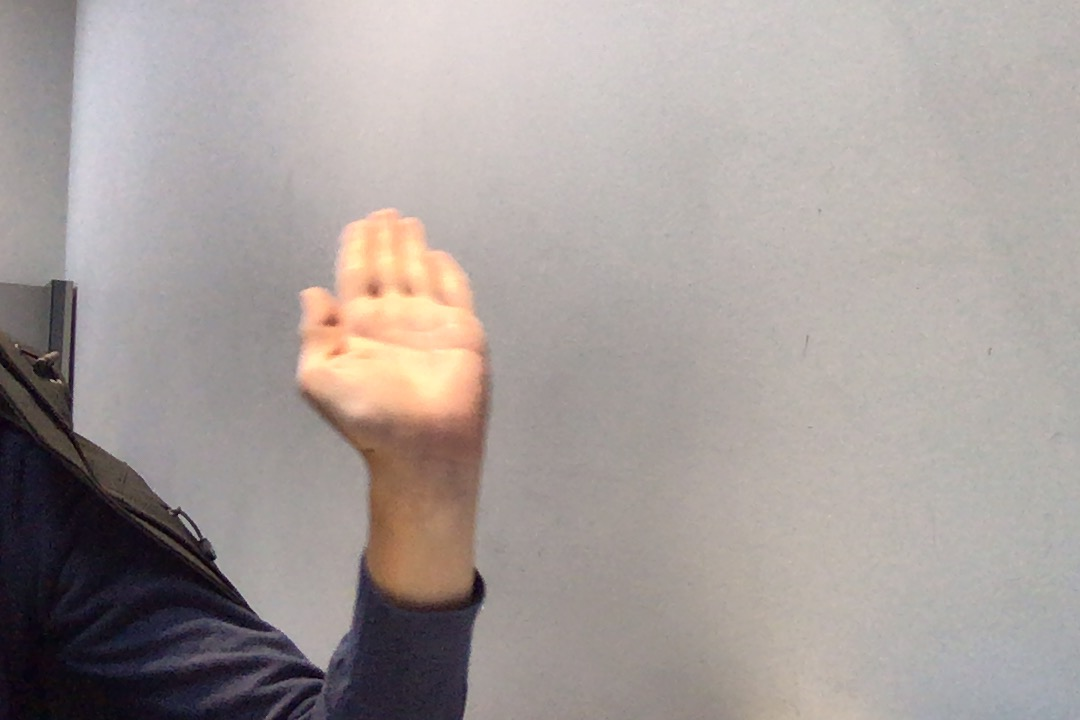palmhand: (265, 196, 513, 471)
